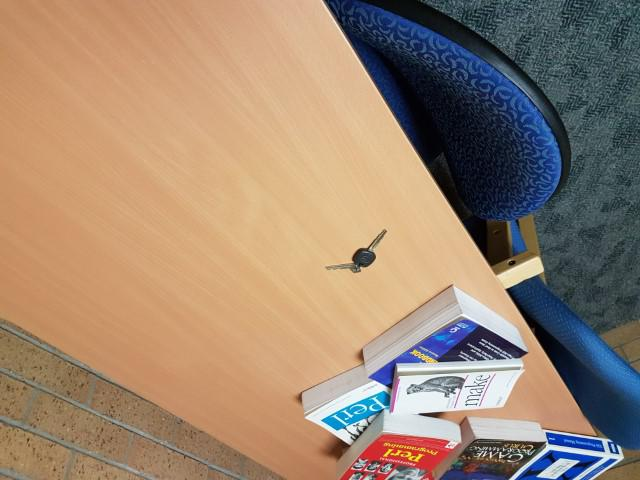key: (351, 225, 389, 270)
